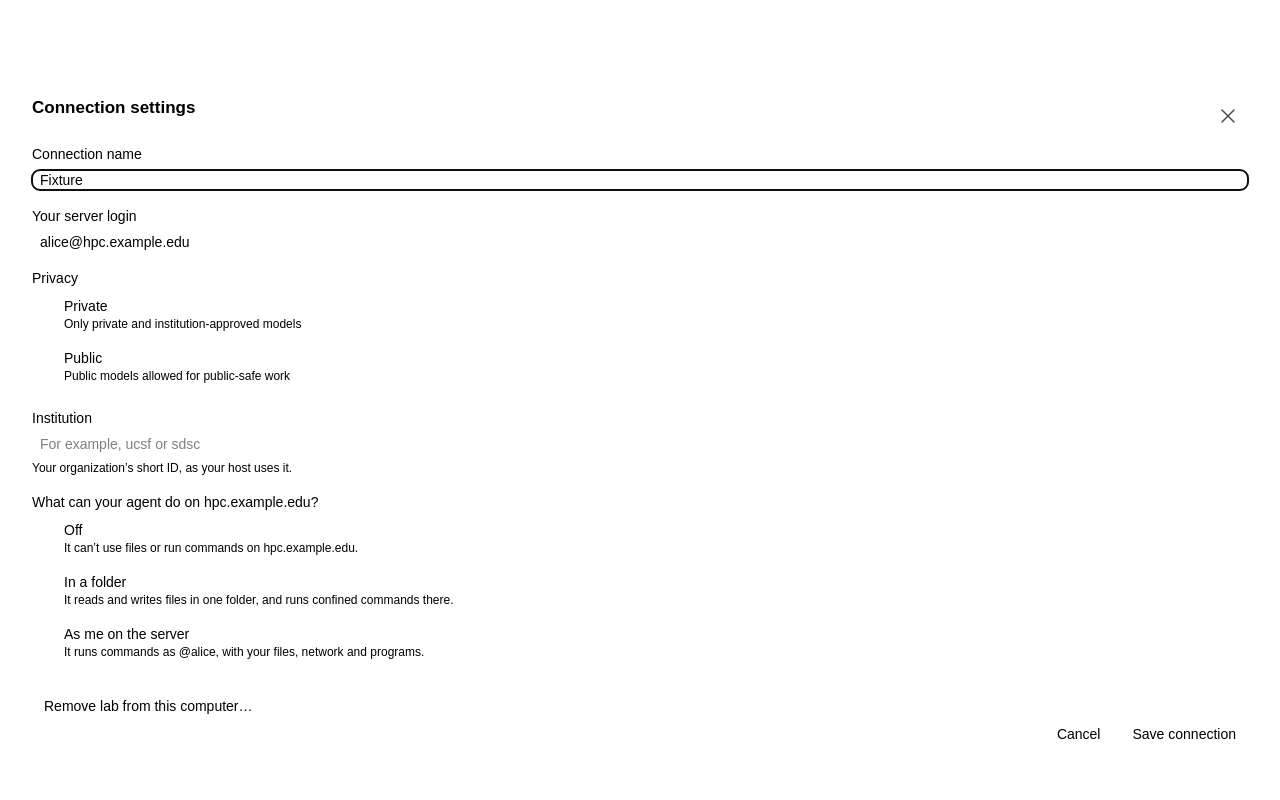
it: ConnectionSettingsDialog › keeps the institution across mode toggles
Type "sdsc" into the field with placeholder "For example, ucsf or sdsc". click: [640, 444]
box: [32,434,1248,454]
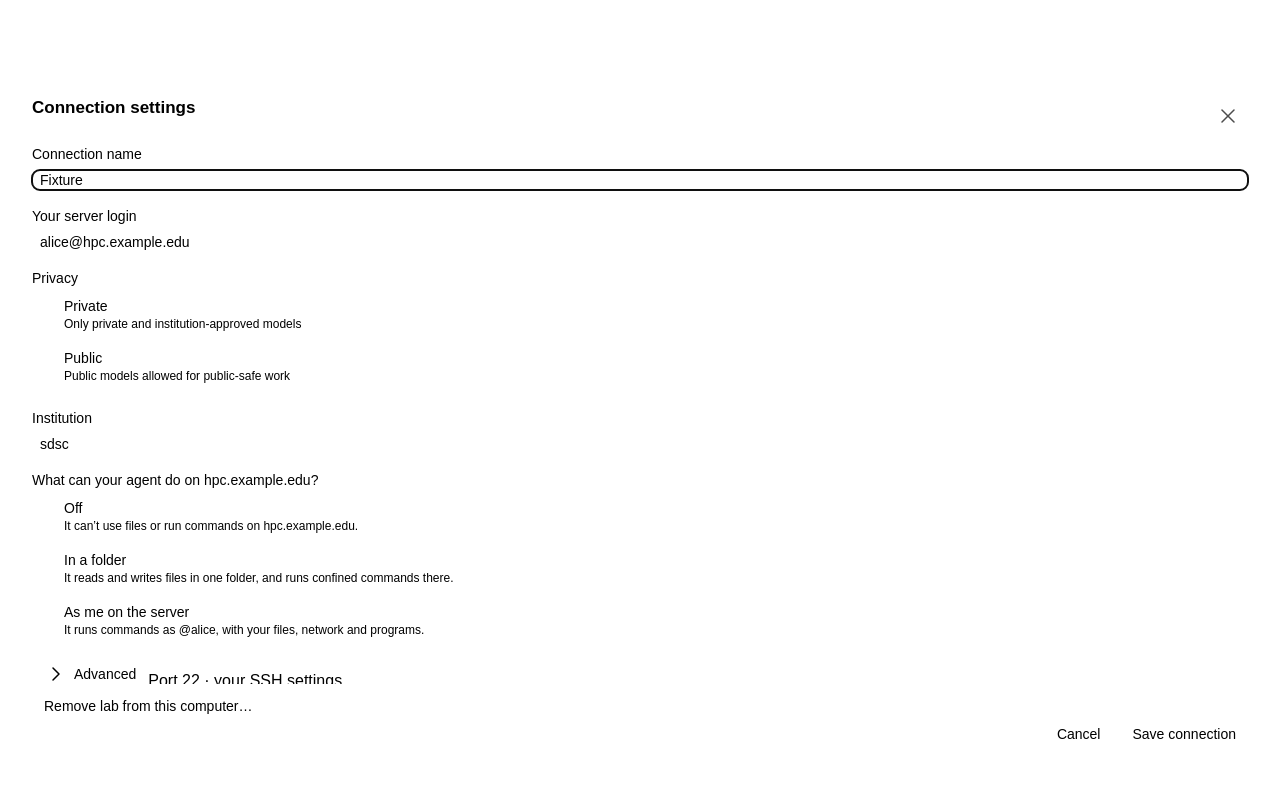
Click the radio button labelled "Public Public models allowed for public-safe work". click: [177, 366]
box: [64,350,290,383]
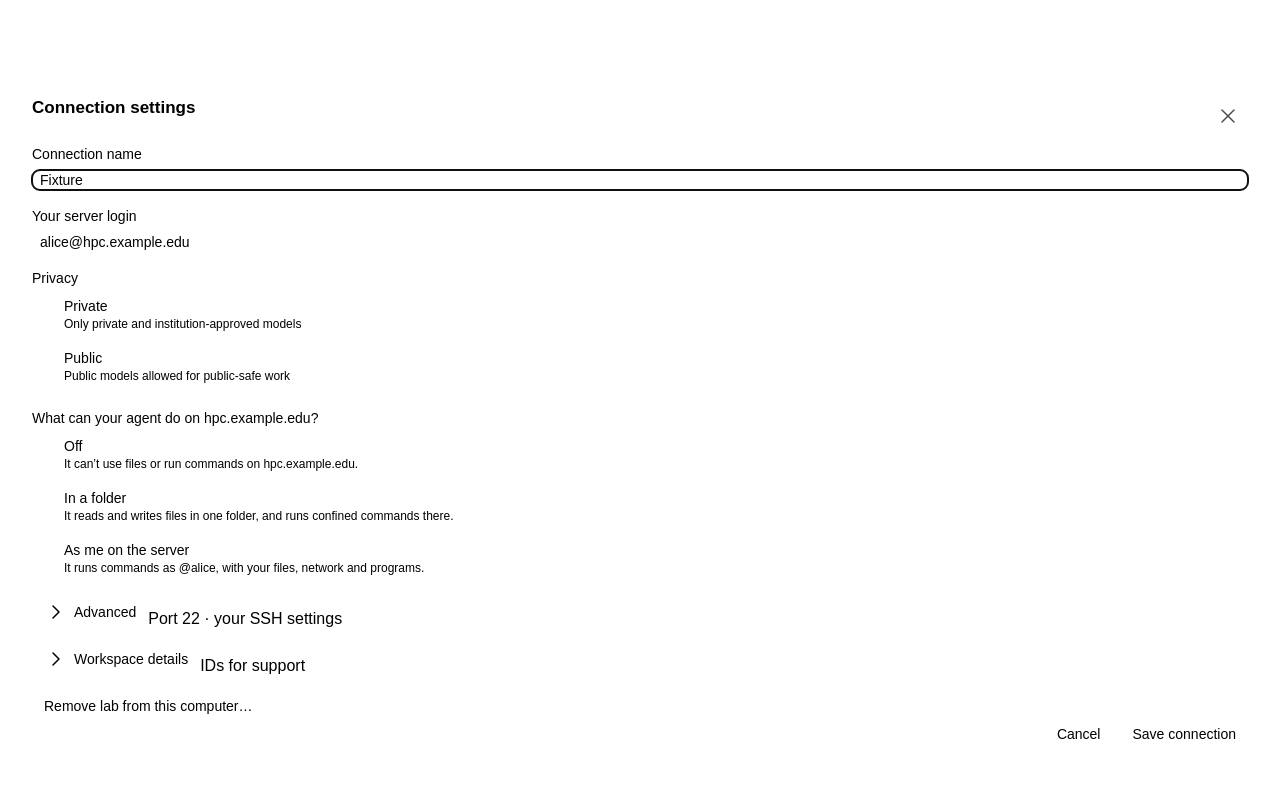
Click the radio button labelled "Private Only private and institution-approved models". click: [183, 314]
box: [64,298,302,331]
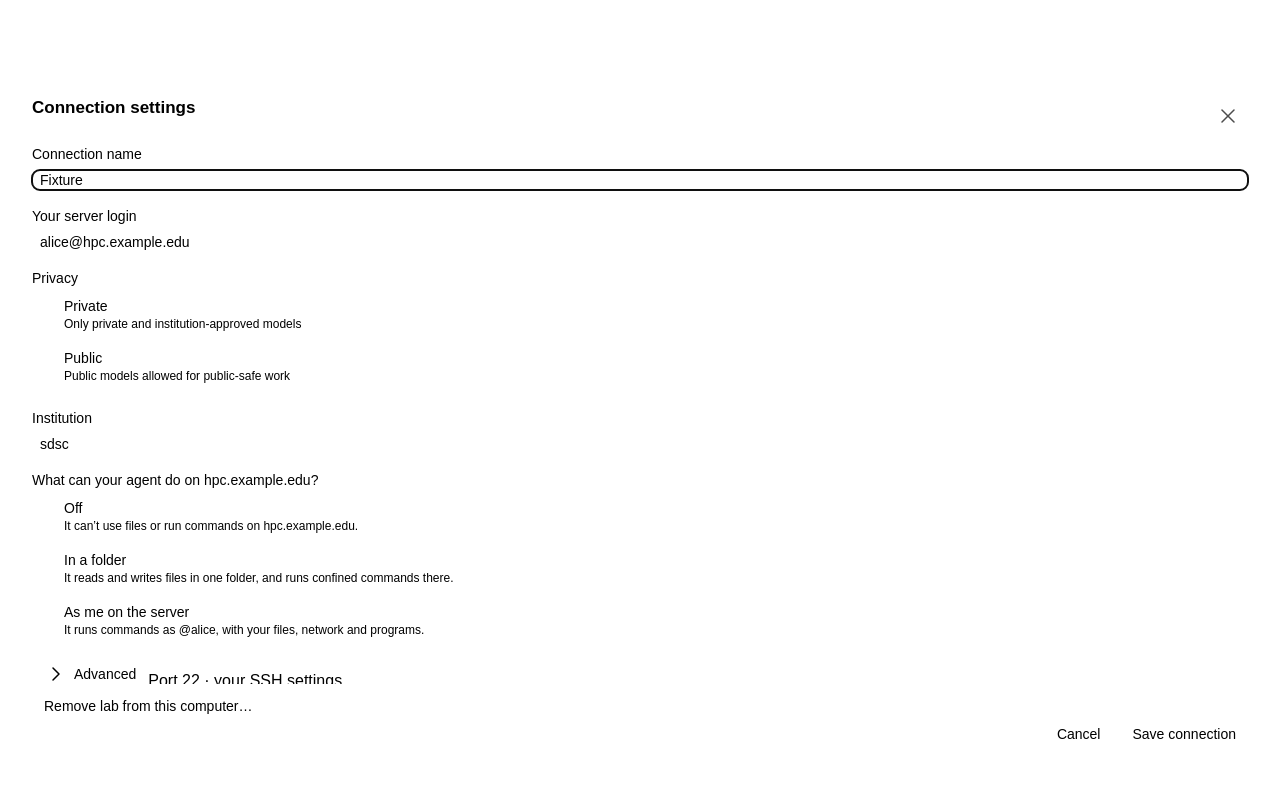
expect the field with placeholder "For example, ucsf or sdsc" holds "sdsc": met, box [32,434,1248,454]
